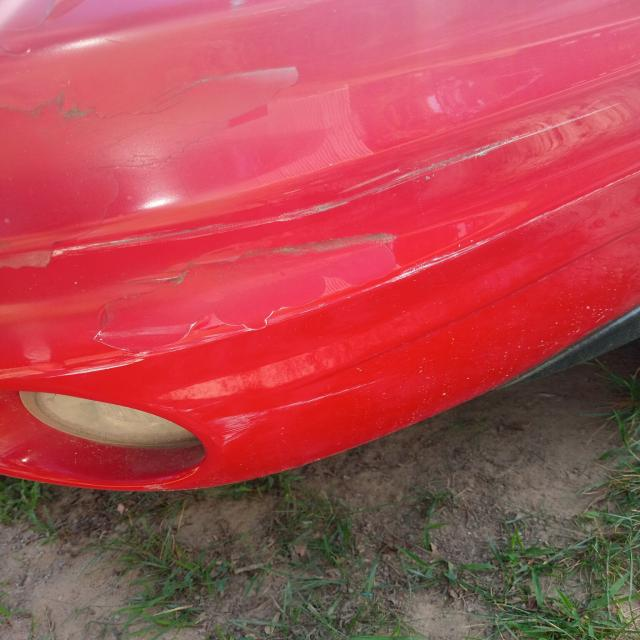scratch: (0, 56, 640, 387), (140, 378, 386, 452)
